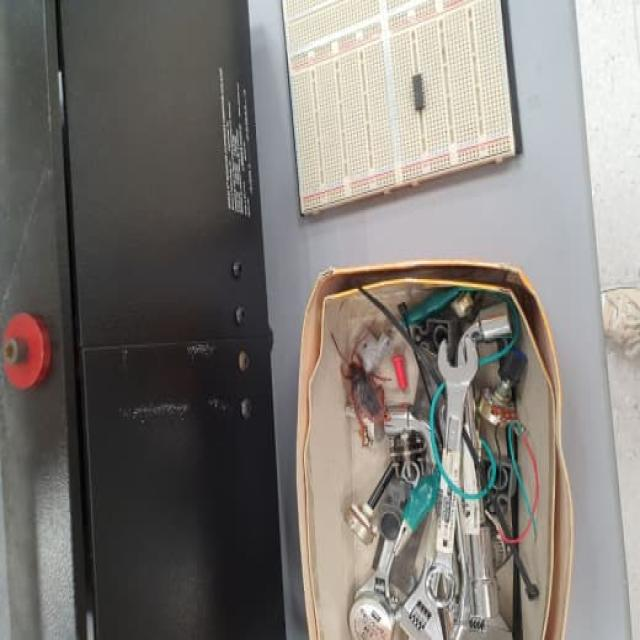Cockroach: (328, 341, 398, 445)
